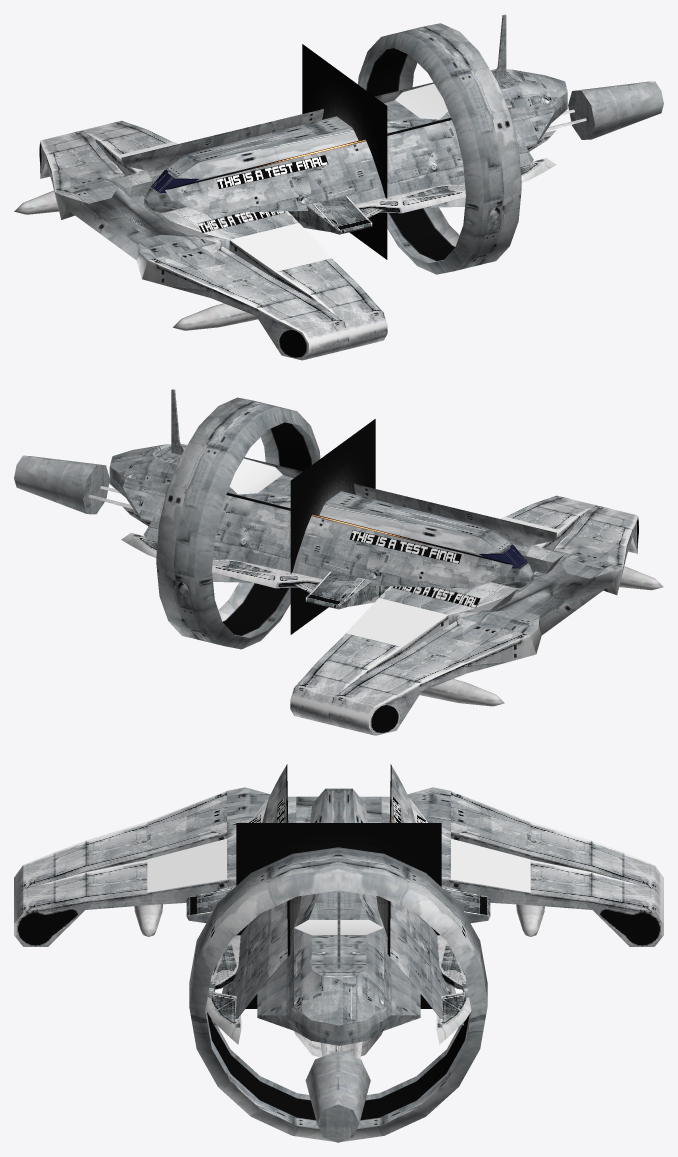
File: OriginalTS.obj
3 views of the same model, one above another, from view 1: azimuth 30°, elevation 25°; view 2: azimuth 150°, elevation 25°; view 3: azimuth 270°, elevation 25° (orthographic). The views are drawn at different scales.
Visible parts, largest first — view 1: T_EXP3_WING0, T_EXP3_HULL0, CIRCLE0, BACK0.003, LFRED010.005, LFGREEN010.005, DECAL010.011, T_EXP3_PROF0, WING_L_10, DECAL030.008, NAMEDECAL0.012, NAMEDECAL020.001; view 2: T_EXP3_WING0, T_EXP3_HULL0, CIRCLE0, LFRED010.005, BACK0.003, DECAL020.008, T_EXP3_PROF0, WING_R_10, DECAL030.008, NAMEDECAL0.012, NAMEDECAL020.001; view 3: T_EXP3_WING0, T_EXP3_HULL0, CIRCLE0, LFRED010.005, BACK0.003, LFGREEN010.005, DECAL010.011, DECAL020.008, T_EXP3_PROF0, WING_L_20, WING_R_20, DECAL030.008 (+2 smaller).
Part boxes in pixels (box(x1,y1,x2,y2)): T_EXP3_WING0: box(14, 120, 387, 360); T_EXP3_HULL0: box(121, 14, 567, 213); CIRCLE0: box(358, 23, 521, 274); BACK0.003: box(527, 81, 663, 151); LFRED010.005: box(340, 72, 387, 259); LFGREEN010.005: box(302, 44, 365, 235); DECAL010.011: box(230, 223, 331, 271); T_EXP3_PROF0: box(288, 196, 383, 234); WING_L_10: box(355, 184, 465, 213); DECAL030.008: box(395, 83, 448, 119); NAMEDECAL0.012: box(216, 155, 328, 188); NAMEDECAL020.001: box(197, 211, 284, 232); T_EXP3_WING0: box(290, 495, 663, 735); T_EXP3_HULL0: box(109, 389, 556, 588); CIRCLE0: box(156, 397, 320, 649); LFRED010.005: box(290, 419, 375, 634); BACK0.003: box(14, 455, 150, 526); DECAL020.008: box(346, 598, 447, 646); T_EXP3_PROF0: box(295, 571, 389, 609); WING_R_10: box(211, 559, 322, 588); DECAL030.008: box(229, 458, 282, 494); NAMEDECAL0.012: box(349, 530, 461, 563); NAMEDECAL020.001: box(393, 586, 480, 608); T_EXP3_WING0: box(14, 787, 663, 946); T_EXP3_HULL0: box(213, 764, 464, 1045); CIRCLE0: box(189, 847, 487, 1141); LFRED010.005: box(246, 823, 441, 1008); BACK0.003: box(305, 1041, 370, 1142); LFGREEN010.005: box(236, 823, 424, 1008); DECAL010.011: box(147, 838, 226, 892); DECAL020.008: box(451, 838, 530, 892); T_EXP3_PROF0: box(186, 885, 490, 1057); WING_L_20: box(205, 981, 241, 1044); WING_R_20: box(436, 981, 471, 1044); DECAL030.008: box(294, 920, 383, 934).
Size of the model in its own units: 91.41 by 35.72 by 76.02.
24 materials, 24 textured.
